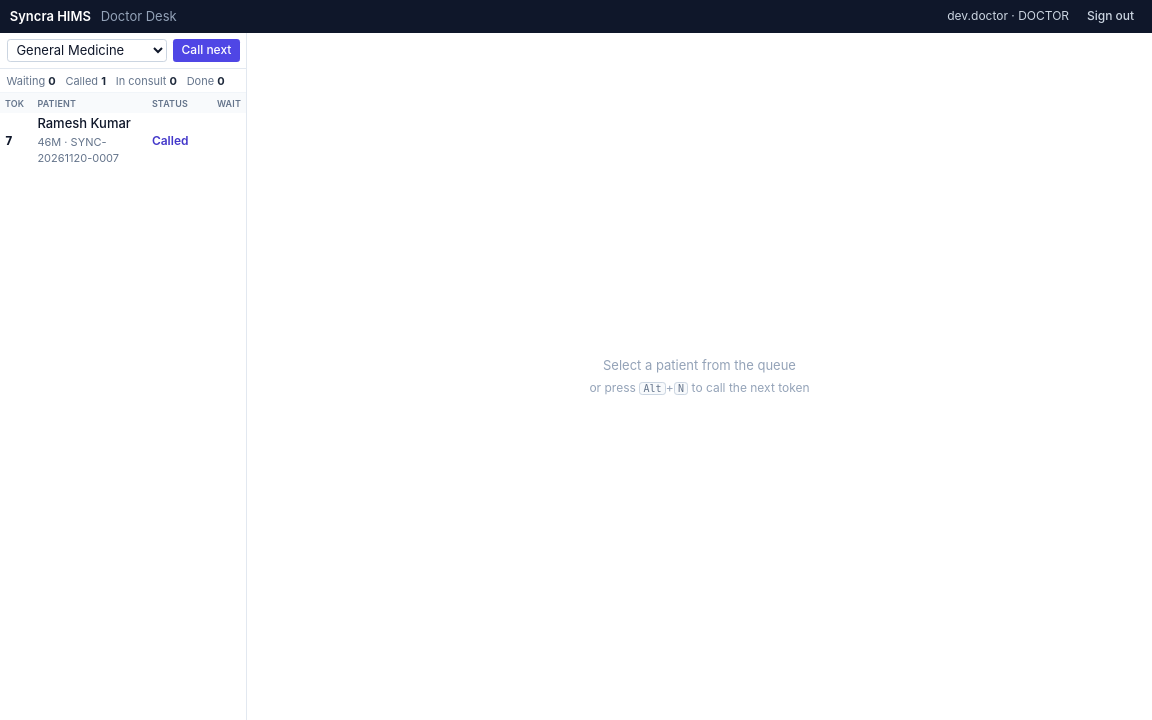
Test: Doctor Desk › shows server-side dictation errors and records the interrupted session
Click the text "Ramesh Kumar" at (84, 124), box left=37, top=114, right=131, bottom=134
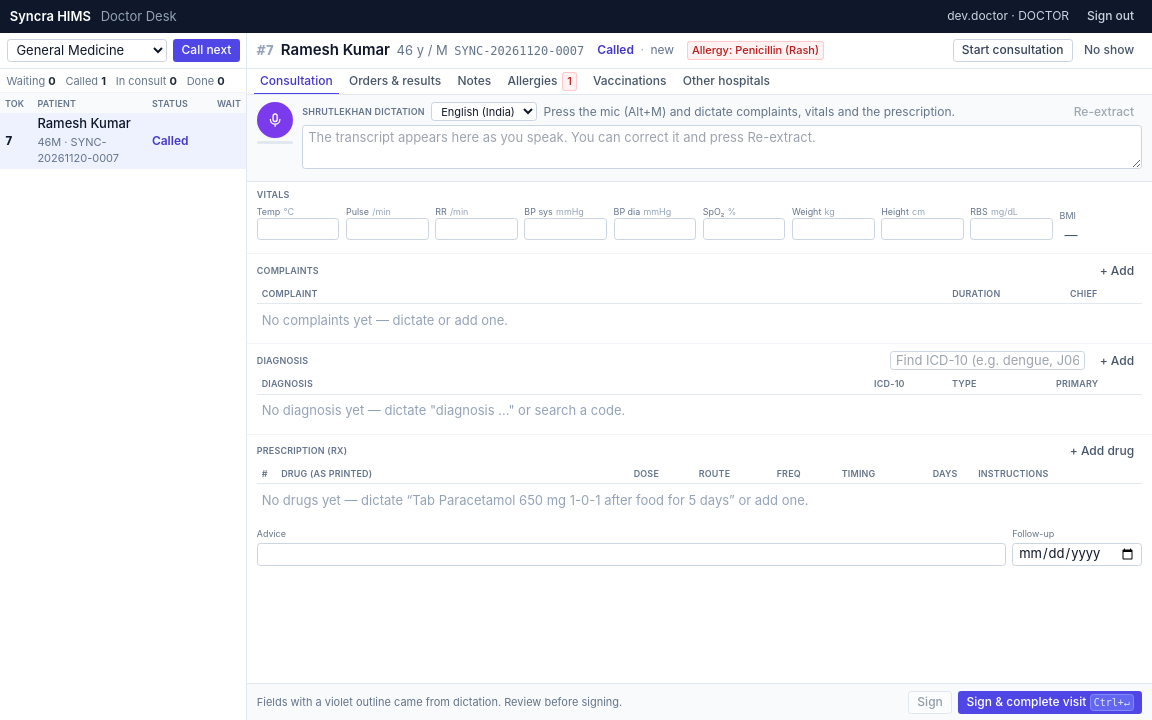
Click the button named "Start dictation" at (275, 120), box left=257, top=102, right=293, bottom=138
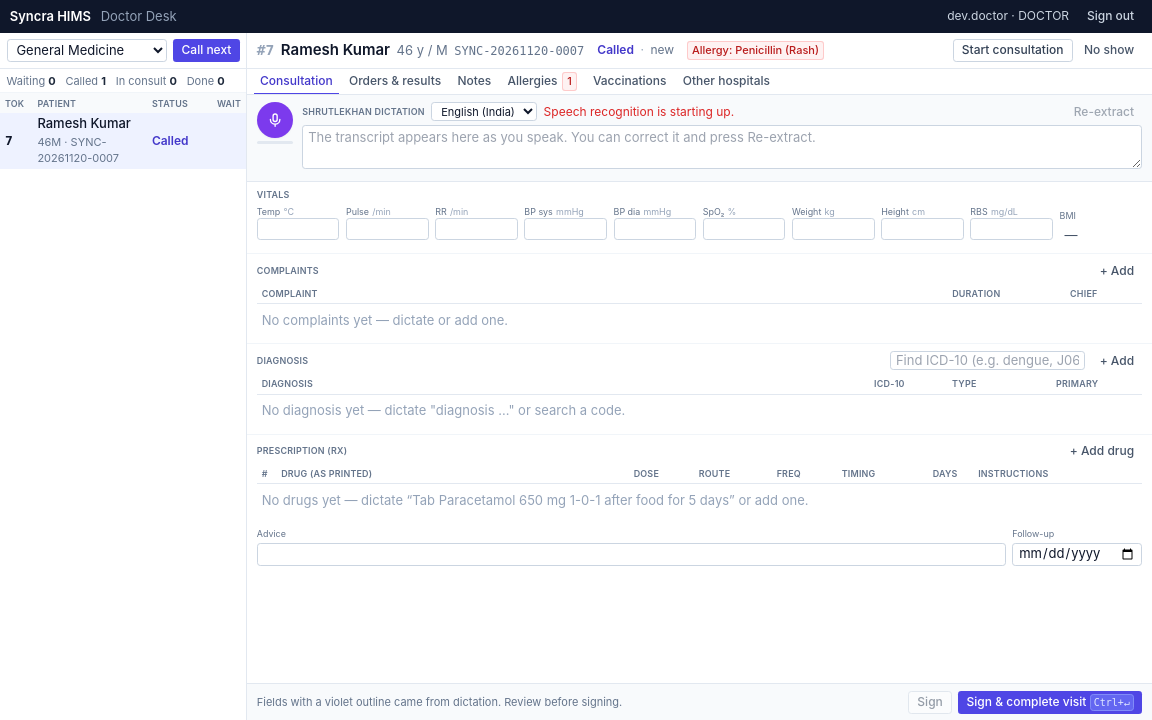
expect the button named "Start dictation" is enabled: met, box left=257, top=102, right=293, bottom=138
expect the message reads "Speech recognition is starting up.": met, box left=544, top=104, right=734, bottom=118
